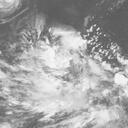cyclone: (17, 24, 103, 120)
